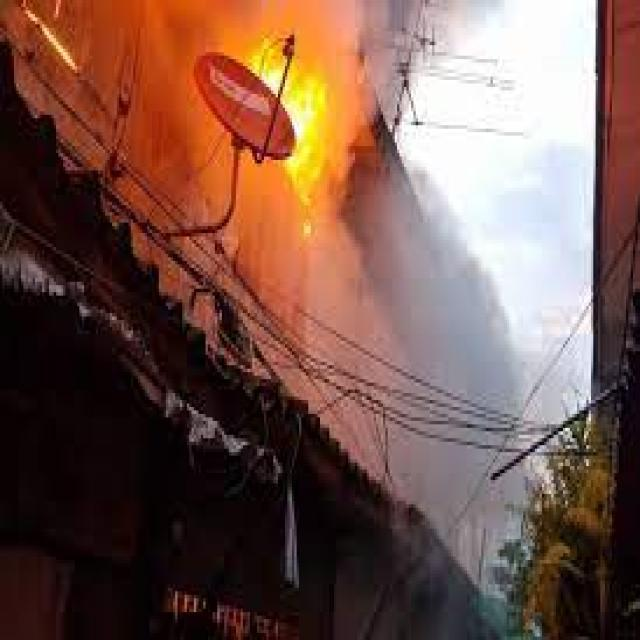Fire: (268, 48, 339, 144)
Smoke: (380, 207, 534, 426), (56, 0, 200, 183)
